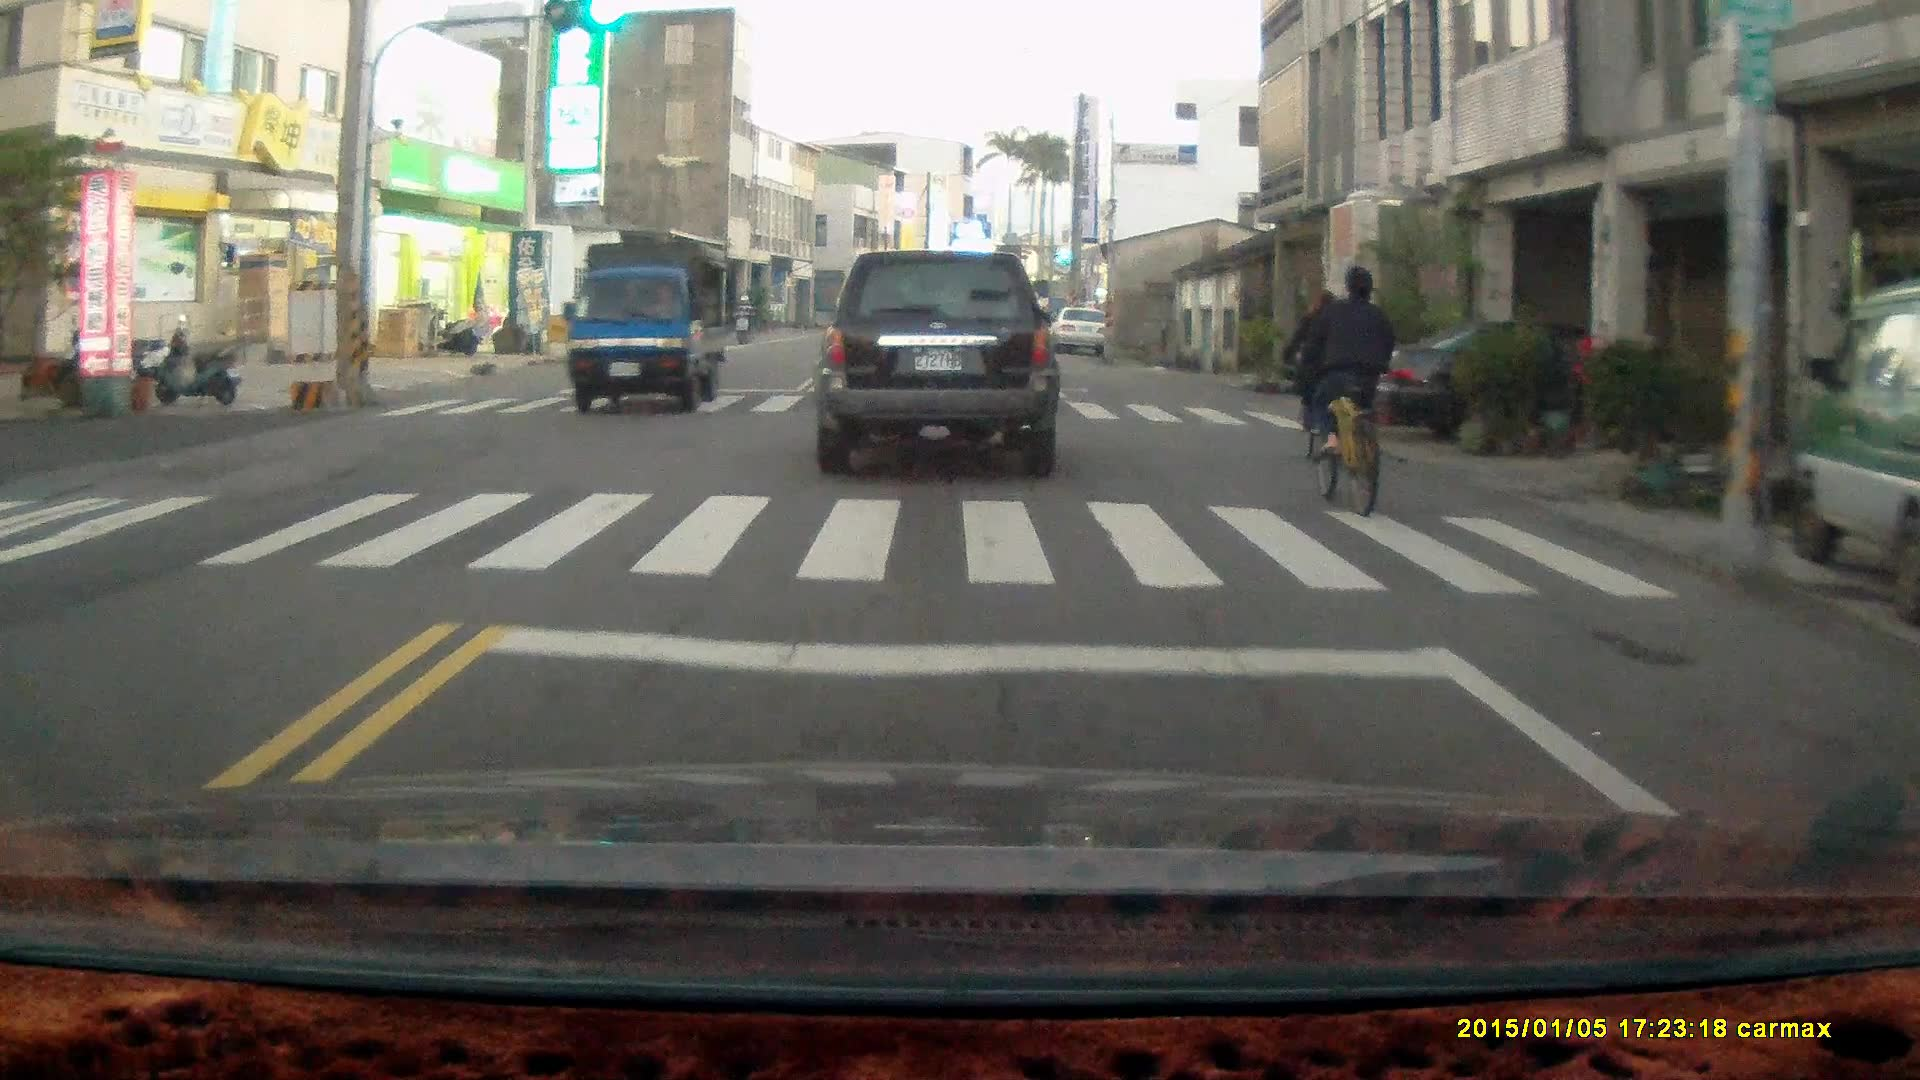rider: (1295, 263, 1395, 515), (1288, 275, 1354, 457), (731, 291, 754, 344)
vehicle: (811, 248, 1062, 475), (1375, 319, 1728, 456), (1790, 277, 1920, 602), (565, 236, 734, 415), (1054, 306, 1115, 355)
